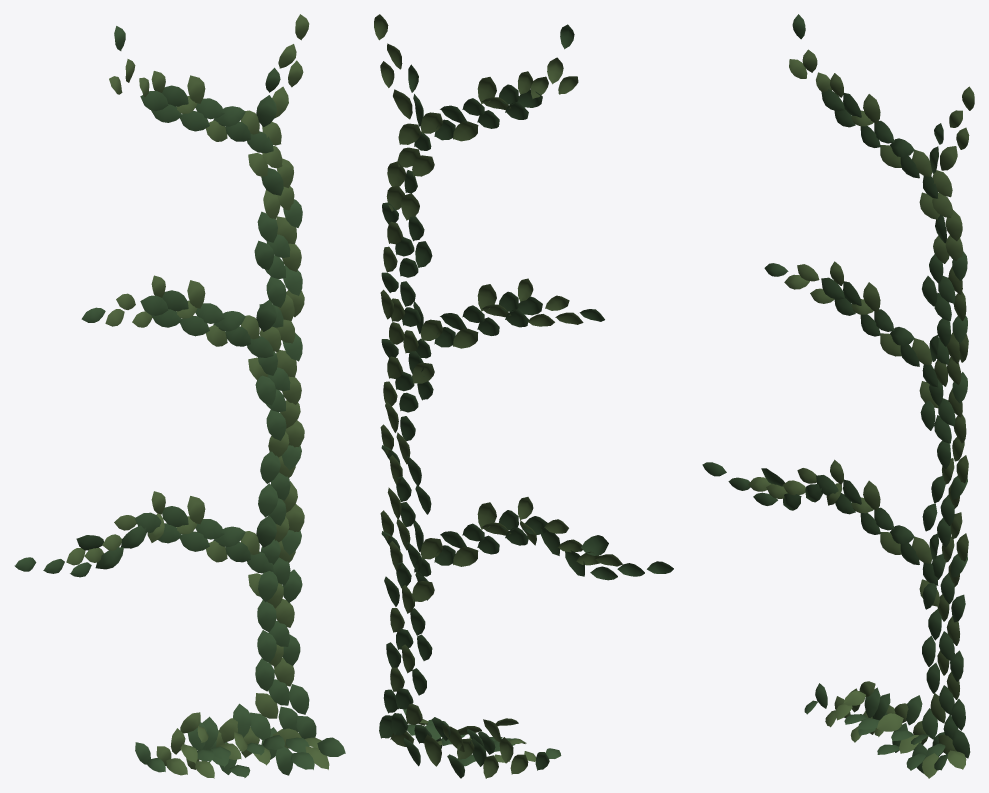
The model's file is enredadera_4mirror.fbx.
The picture shows the model from 3 angles, left to right: view 1: azimuth 30°, elevation 25°; view 2: azimuth 150°, elevation 25°; view 3: azimuth 330°, elevation 25°; orthographic projection. The views are drawn at different scales.
Parts seen in each view (by area): view 1: Hoja235; view 2: Hoja235; view 3: Hoja235.
Boxes of the visible parts, left/top/right/bottom form: Hoja235: left=14, top=14, right=345, bottom=778; Hoja235: left=374, top=14, right=673, bottom=778; Hoja235: left=702, top=14, right=974, bottom=778.
Size of the model in its own units: 7.32 by 17.99 by 1.79.
